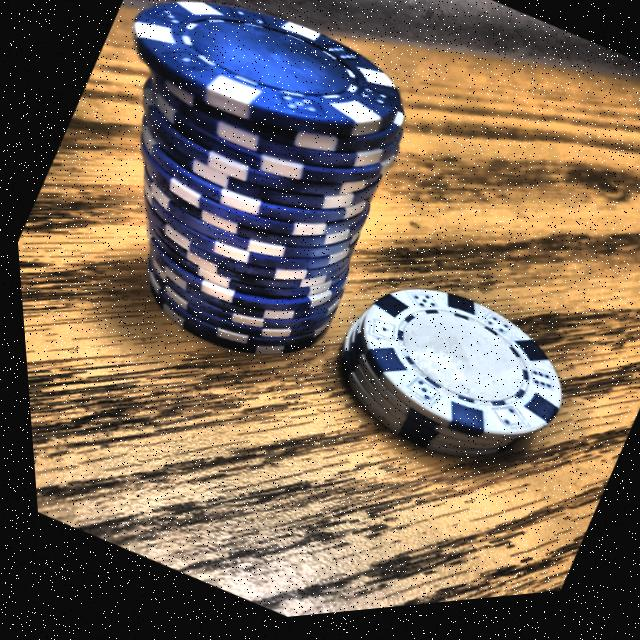Chip: (0, 0, 468, 454), (284, 224, 614, 545)
